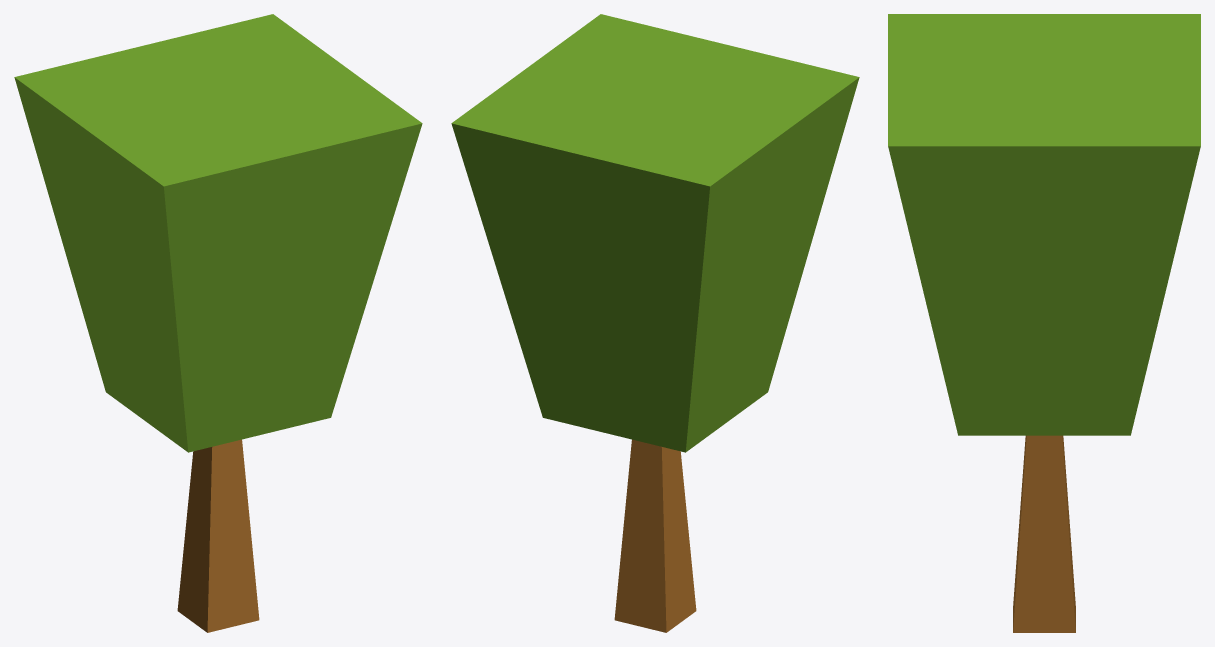
File: tree_03.fbx
3 renders of one model, left to right at view 1: azimuth 30°, elevation 25°; view 2: azimuth 150°, elevation 25°; view 3: azimuth 270°, elevation 25°, orthographic. The views are drawn at different scales.
Visible parts, largest first — view 1: tree_03; view 2: tree_03; view 3: tree_03.
Boxes of the visible parts, x1,y1,x2,y2 form: tree_03: [14, 14, 422, 632]; tree_03: [451, 14, 859, 632]; tree_03: [888, 14, 1200, 632].
Bounding box in the file's own units: 2.57 × 4.89 × 2.57.
